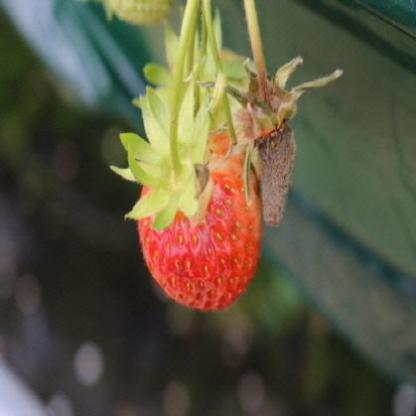Strawberry_Gray_Mold: (240, 70, 297, 226)
